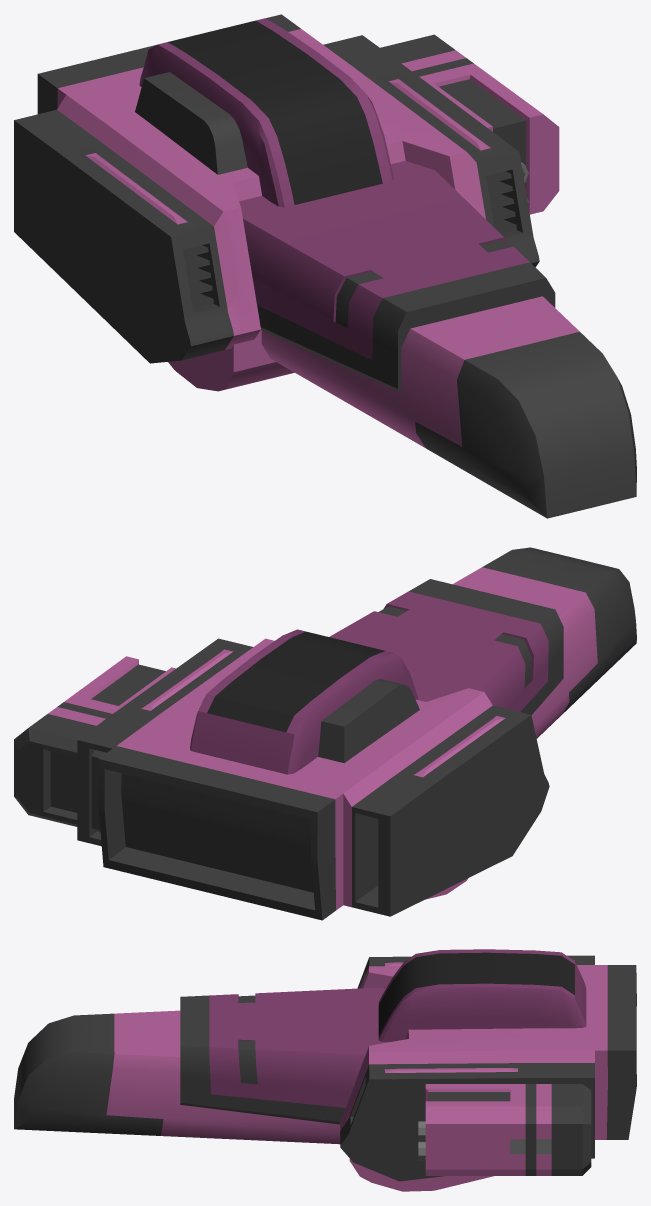
The model's file is BaseShip.fbx.
3 renders of one model, top to bottom at view 1: azimuth 30°, elevation 25°; view 2: azimuth 150°, elevation 25°; view 3: azimuth 270°, elevation 25°, orthographic. The views are drawn at different scales.
Visible parts, largest first — view 1: Spaceship_FernandoTheFlamingo; view 2: Spaceship_FernandoTheFlamingo; view 3: Spaceship_FernandoTheFlamingo.
Part boxes in pixels (left/top/right/bottom): Spaceship_FernandoTheFlamingo: left=14, top=14, right=636, bottom=518; Spaceship_FernandoTheFlamingo: left=14, top=547, right=636, bottom=920; Spaceship_FernandoTheFlamingo: left=14, top=949, right=636, bottom=1191.
Bounding box in the file's own units: 453 × 253 × 795.
1 material, 1 textured.
